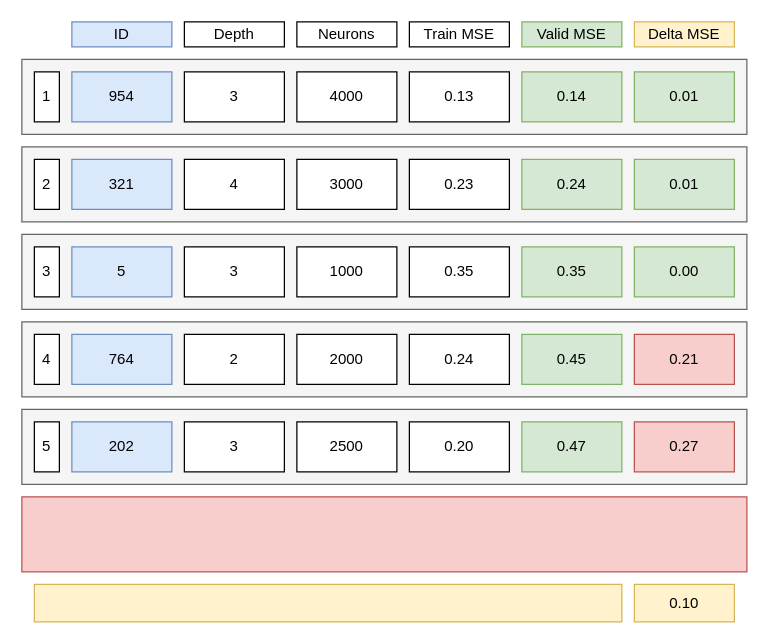
This 769x644 diagram has some shape labels left out. Each missing label, with the box of its shape:
Overfitting Tolerance:: (33, 583, 622, 622)
Reject: (21, 496, 747, 572)
